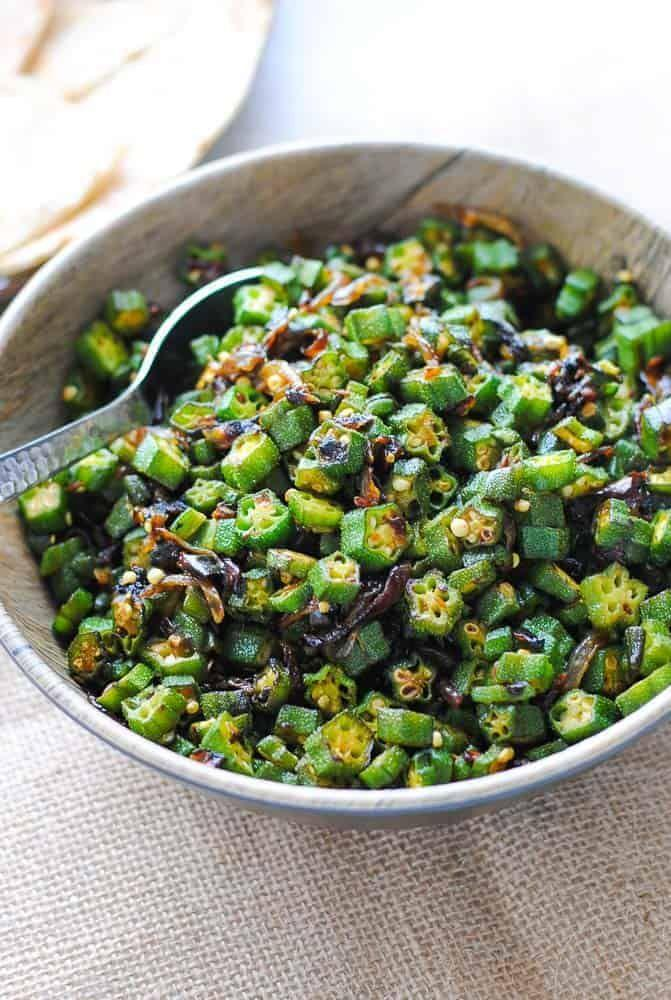bhindi: (239, 288, 671, 711)
